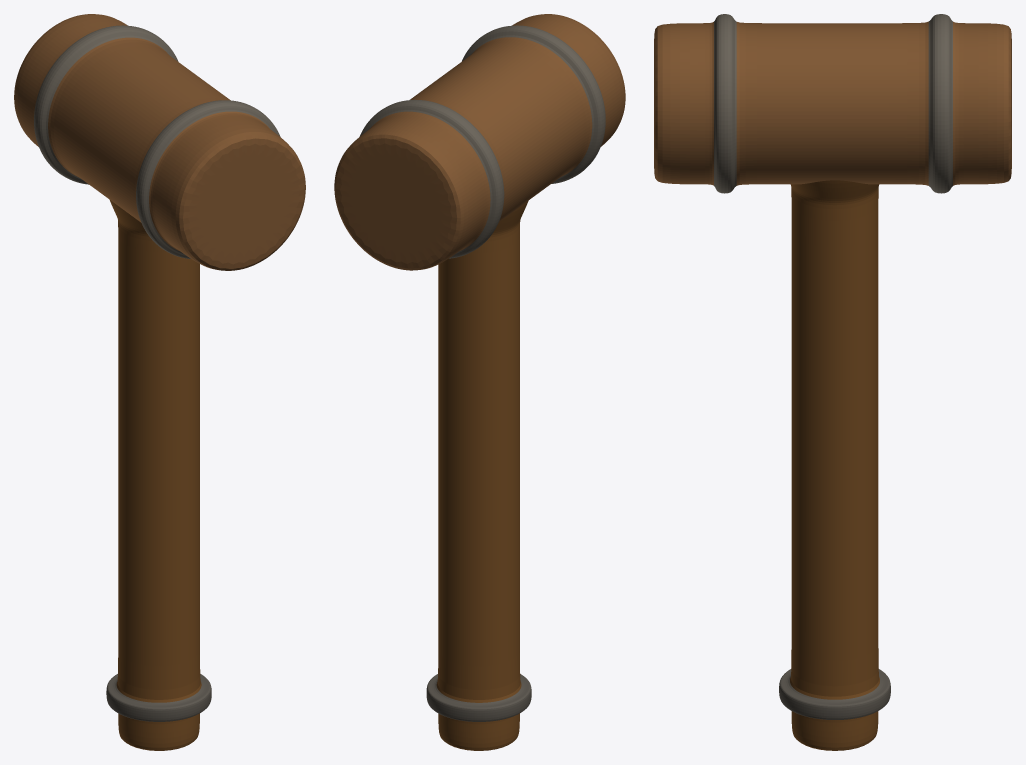
The model's file is hammer.glb.
The picture shows the model from 3 angles, left to right: view 1: azimuth 30°, elevation 25°; view 2: azimuth 150°, elevation 25°; view 3: azimuth 270°, elevation 25°; orthographic projection. The views are drawn at different scales.
Parts seen in each view (by area): view 1: Cylinder.001, Cylinder; view 2: Cylinder.001, Cylinder; view 3: Cylinder.001, Cylinder.
Boxes of the visible parts, x1,y1,x2,y2 form: Cylinder.001: (14, 14, 305, 270); Cylinder: (106, 199, 211, 750); Cylinder.001: (334, 14, 625, 270); Cylinder: (426, 200, 531, 750); Cylinder.001: (654, 14, 1011, 193); Cylinder: (779, 180, 890, 750).
Bounding box in the file's own units: 0.2431 × 1.06 × 0.4844.
